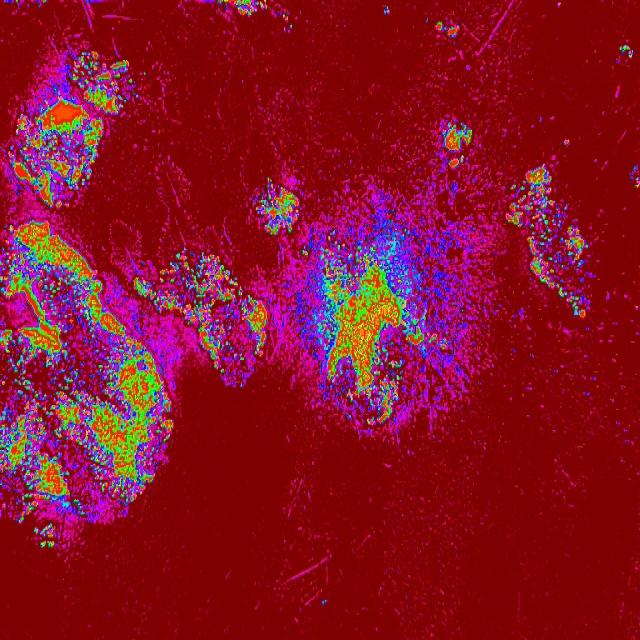fire: (302, 188, 474, 432), (0, 325, 134, 523), (5, 50, 140, 211), (134, 244, 268, 390), (507, 160, 591, 318), (1, 217, 120, 324), (134, 390, 176, 500), (250, 172, 301, 238), (437, 118, 475, 168), (216, 0, 268, 18), (32, 521, 58, 550), (434, 18, 463, 38), (278, 11, 294, 31), (629, 161, 640, 190), (618, 43, 634, 61), (380, 4, 394, 18), (320, 596, 330, 610), (562, 140, 571, 149), (140, 69, 148, 79), (536, 114, 542, 122), (424, 17, 430, 24), (38, 0, 48, 4), (12, 0, 20, 4)
